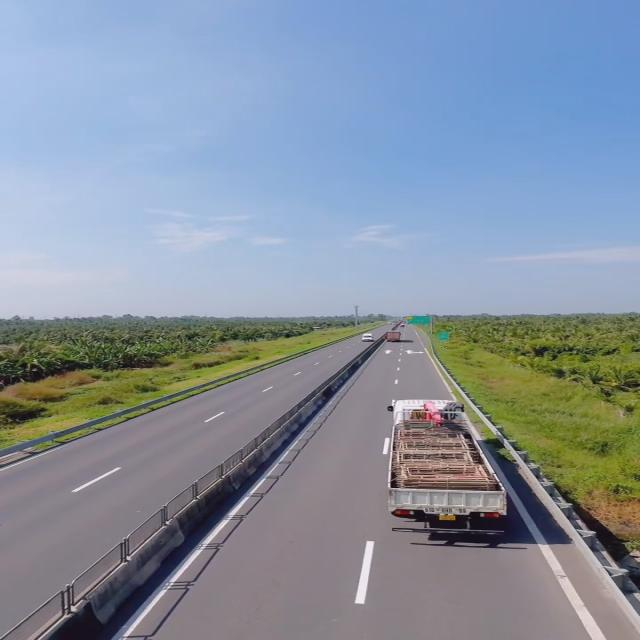truck: (385, 403, 509, 541)
